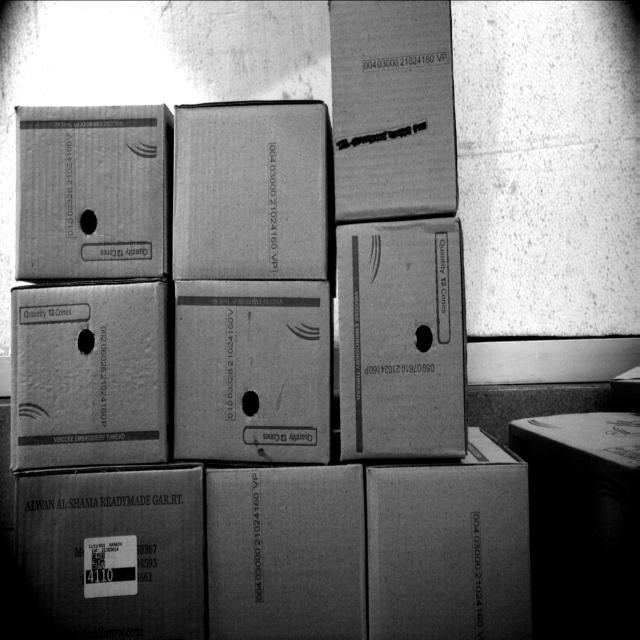box: (15, 466, 204, 639), (338, 223, 470, 466), (199, 456, 371, 640), (4, 282, 168, 464), (170, 276, 332, 460), (366, 463, 529, 639), (170, 100, 328, 279), (331, 0, 457, 223), (19, 103, 170, 282)
